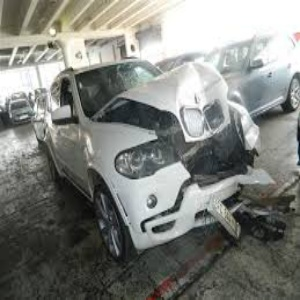bonnet: (142, 64, 229, 116)
bumper: (176, 147, 274, 228)
